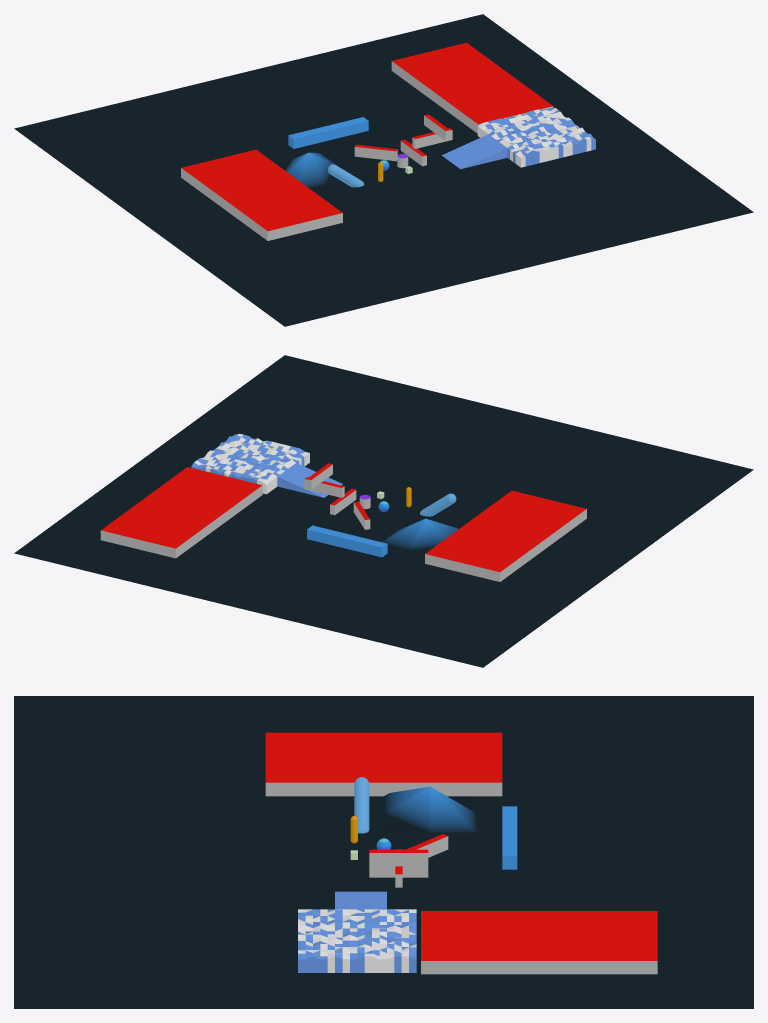
File: bounds.gltf
3 views of the same model, one above another, from view 1: azimuth 30°, elevation 25°; view 2: azimuth 150°, elevation 25°; view 3: azimuth 270°, elevation 25° (orthographic). The views are drawn at different scales.
Visible parts, largest first — view 1: Ground, Cube.003, Cube.004, Plane, Cube.006; view 2: Ground, Cube.004, Cube.003, Plane; view 3: Ground, Cube.004, Cube.003, Plane, Cube.002, StaticCapsule, Cube.007.
Part boxes in pixels (x1,y1,x2,y2): Ground: (14, 14, 753, 326); Cube.003: (181, 149, 342, 240); Cube.004: (391, 42, 553, 133); Plane: (442, 107, 595, 169); Cube.006: (354, 144, 397, 161); Ground: (14, 355, 753, 667); Cube.004: (100, 467, 262, 558); Cube.003: (425, 490, 586, 581); Plane: (191, 433, 342, 497); Ground: (14, 696, 753, 1008); Cube.004: (421, 911, 657, 974); Cube.003: (265, 732, 502, 796); Plane: (298, 891, 416, 972); Cube.002: (369, 849, 428, 866); StaticCapsule: (354, 777, 369, 833); Cube.007: (369, 866, 428, 877).
Size of the model in its own units: 100 by 7.18 by 100.
